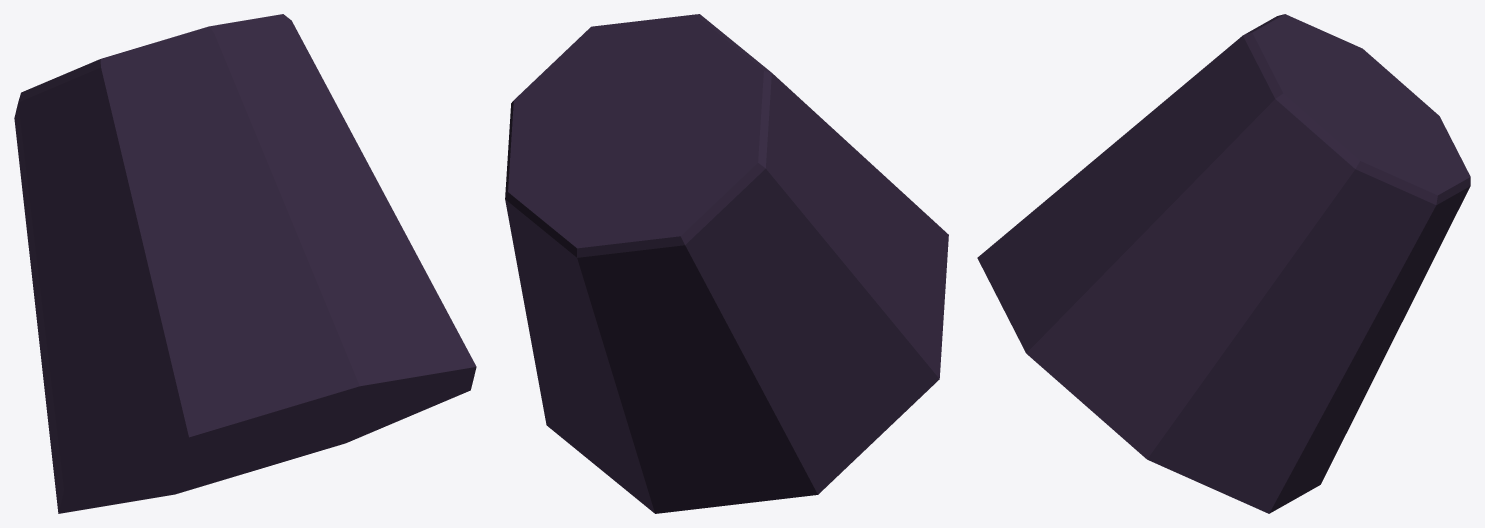
Rendered from Heavenly Fire-Joint3.fbx.
3 views of the same model, side by side, from view 1: azimuth 30°, elevation 25°; view 2: azimuth 150°, elevation 25°; view 3: azimuth 270°, elevation 25° (orthographic). The views are drawn at different scales.
Visible parts, largest first — view 1: Heavenly Fire-Joint3_Baked; view 2: Heavenly Fire-Joint3_Baked; view 3: Heavenly Fire-Joint3_Baked.
Boxes of the visible parts, x1,y1,x2,y2 form: Heavenly Fire-Joint3_Baked: [14, 14, 476, 513]; Heavenly Fire-Joint3_Baked: [505, 14, 948, 513]; Heavenly Fire-Joint3_Baked: [977, 14, 1470, 513].
Size of the model in its own units: 75.49 by 88.56 by 87.91.
1 material, 1 textured.
